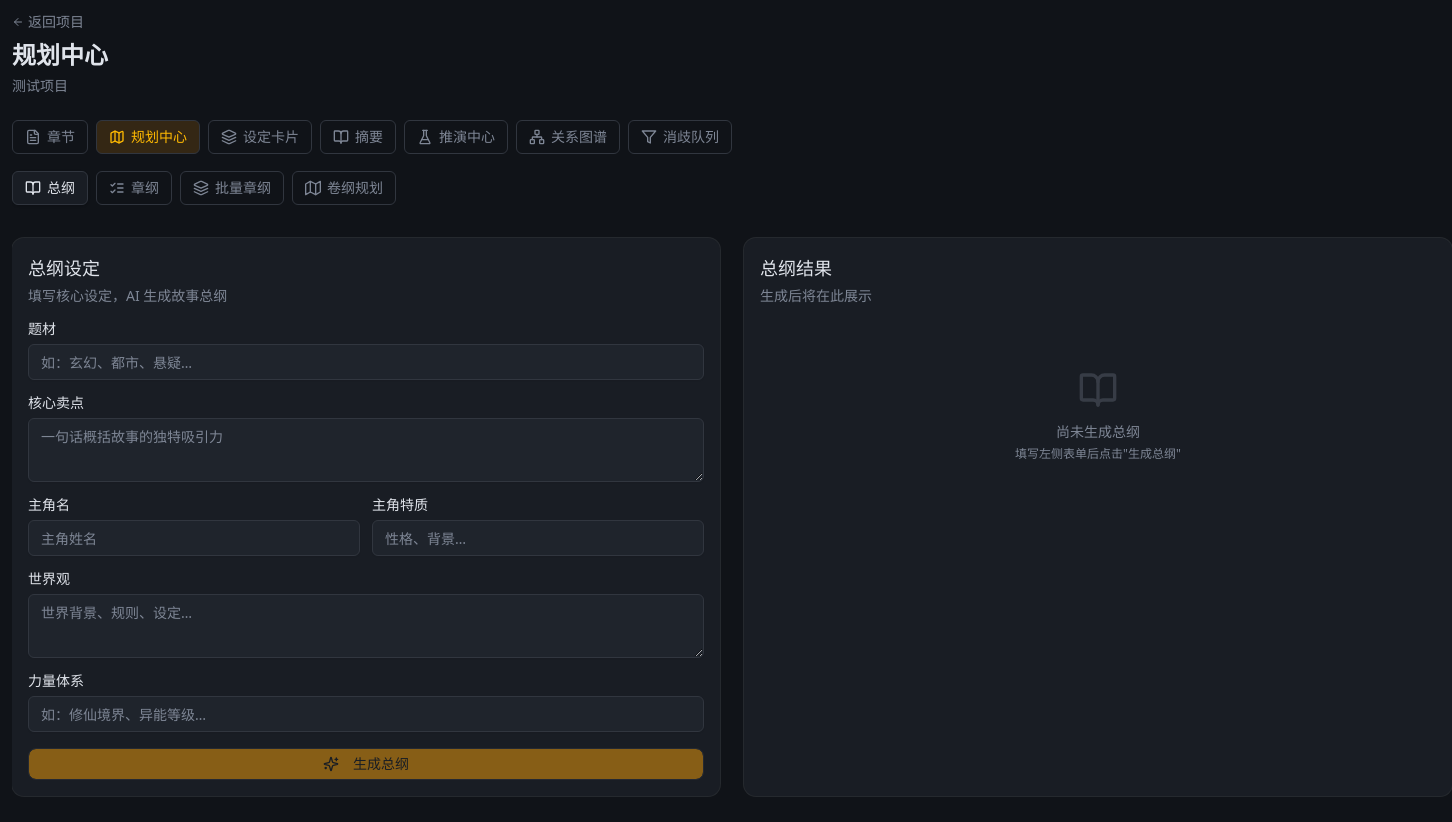
Test: PlanningCenter › batch: shows form inputs
This screenshot has width=1452, height=822.
Check: the text "测试项目" is shown, box [12,76,68,95]
Click the tab "批量章纲" at (232, 188), box [180,171,284,205]
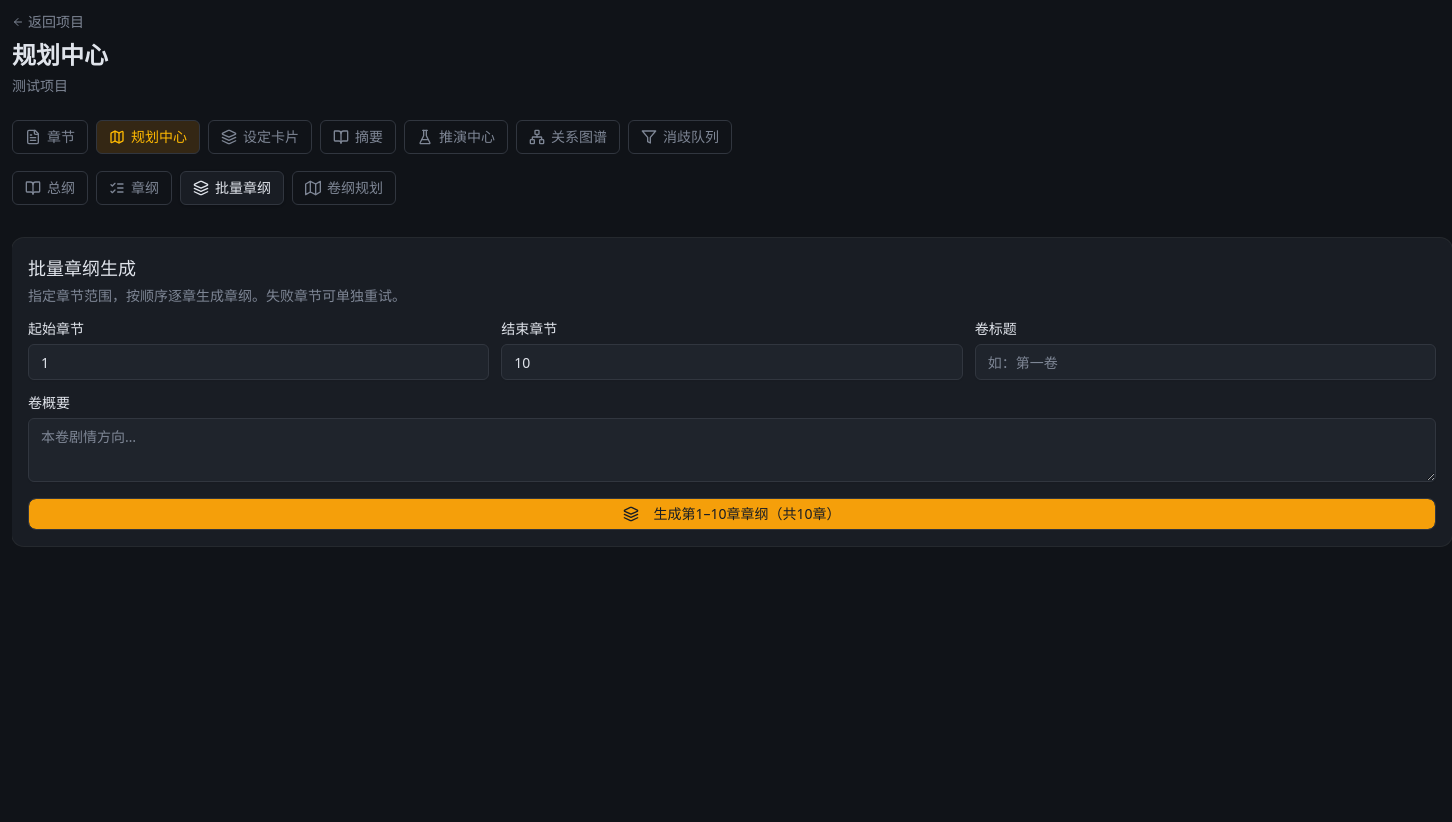
Check: the number field labelled "起始章节" is shown, box [28,344,489,380]
Check: the number field labelled "结束章节" is shown, box [501,344,963,380]
